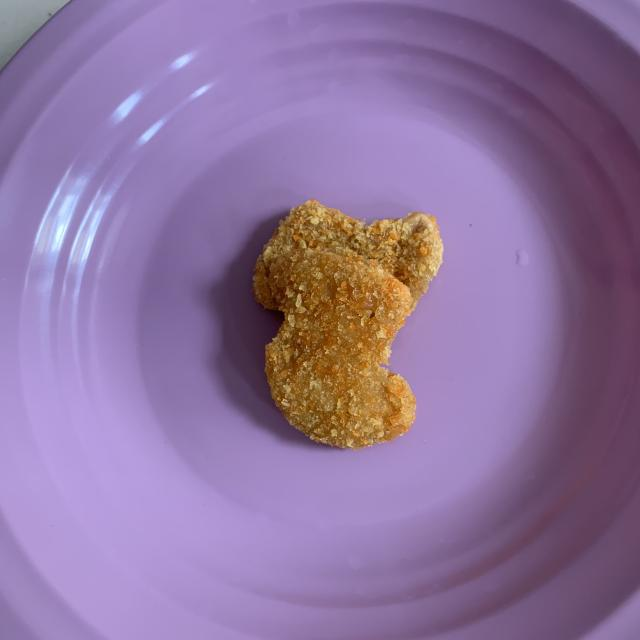Frango: (257, 246, 419, 442), (255, 210, 444, 314)
